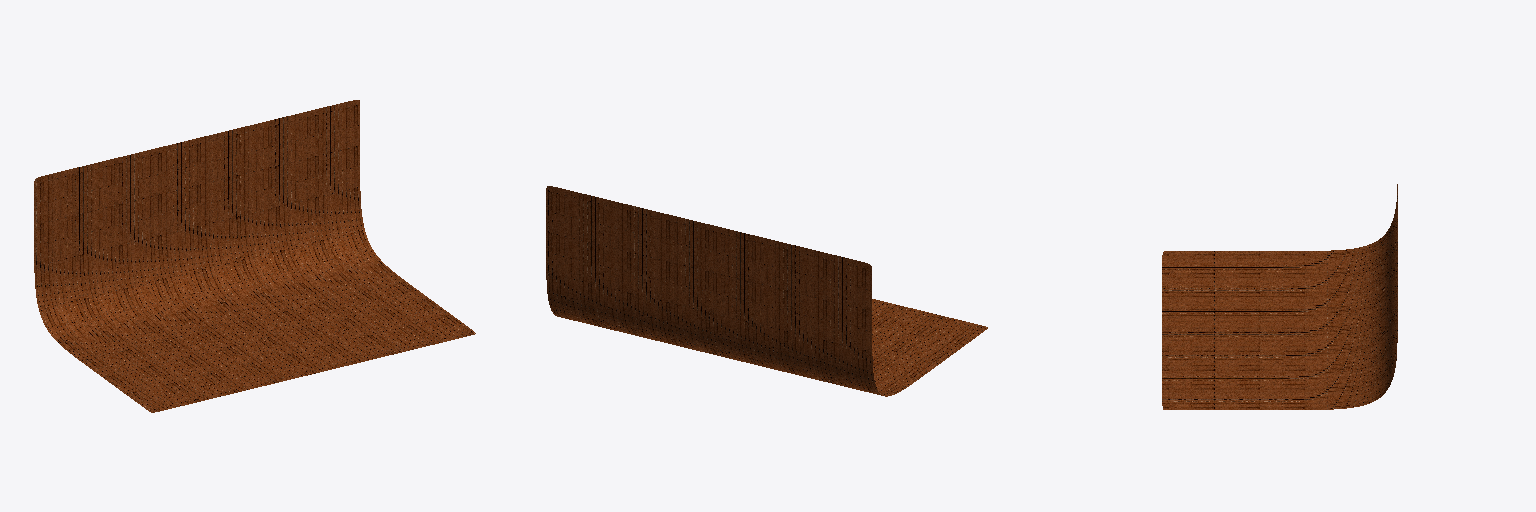
3 renders of one model, left to right at view 1: azimuth 30°, elevation 25°; view 2: azimuth 150°, elevation 25°; view 3: azimuth 270°, elevation 25°, orthographic.
Visible parts, largest first — view 1: Studio_L_Plane.003; view 2: Studio_L_Plane.003; view 3: Studio_L_Plane.003.
Part boxes in pixels (x1,y1,x2,y2): Studio_L_Plane.003: (34,100,475,412); Studio_L_Plane.003: (546,186,987,396); Studio_L_Plane.003: (1162,184,1397,409).
Size of the model in its own units: 32 by 14 by 20.
1 materials, 1 textured.